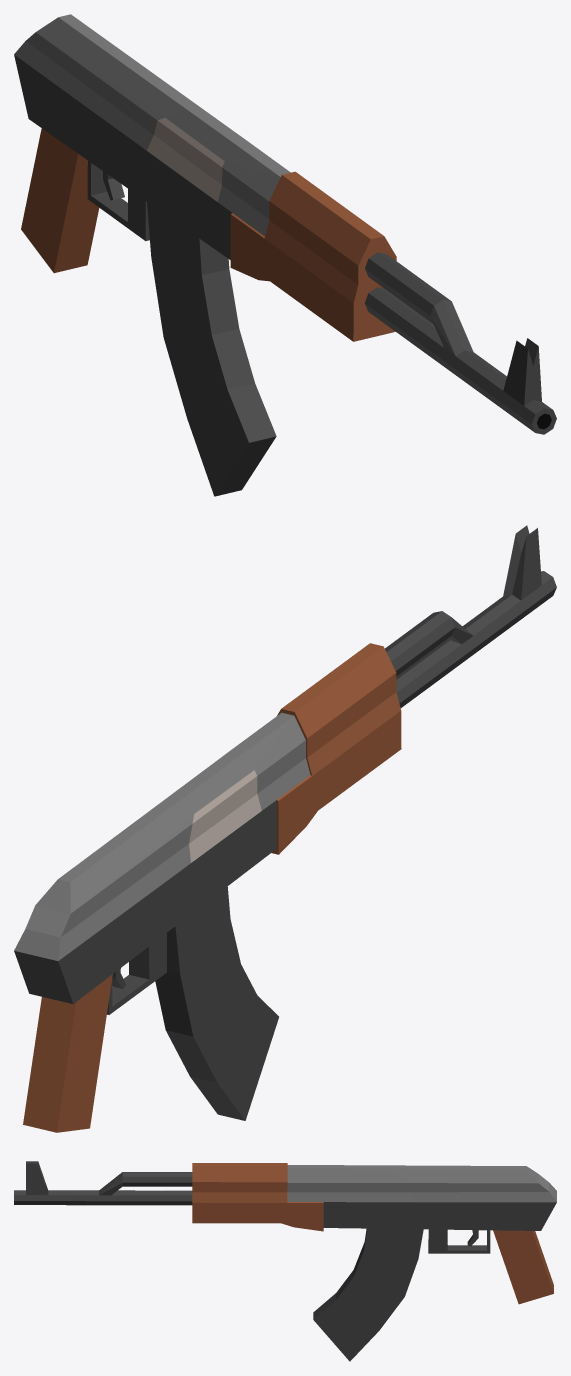
The picture shows the model from 3 angles, top to bottom: view 1: azimuth 30°, elevation 25°; view 2: azimuth 150°, elevation 25°; view 3: azimuth 270°, elevation 25°; orthographic projection. The views are drawn at different scales.
Visible parts, largest first — view 1: AK47; view 2: AK47; view 3: AK47.
Boxes of the visible parts, x1,y1,x2,y2 form: AK47: (14,14,556,496); AK47: (14,525,556,1132); AK47: (14,1161,556,1361).
Bounding box in the file's own units: 7.08 × 51.53 × 129.
